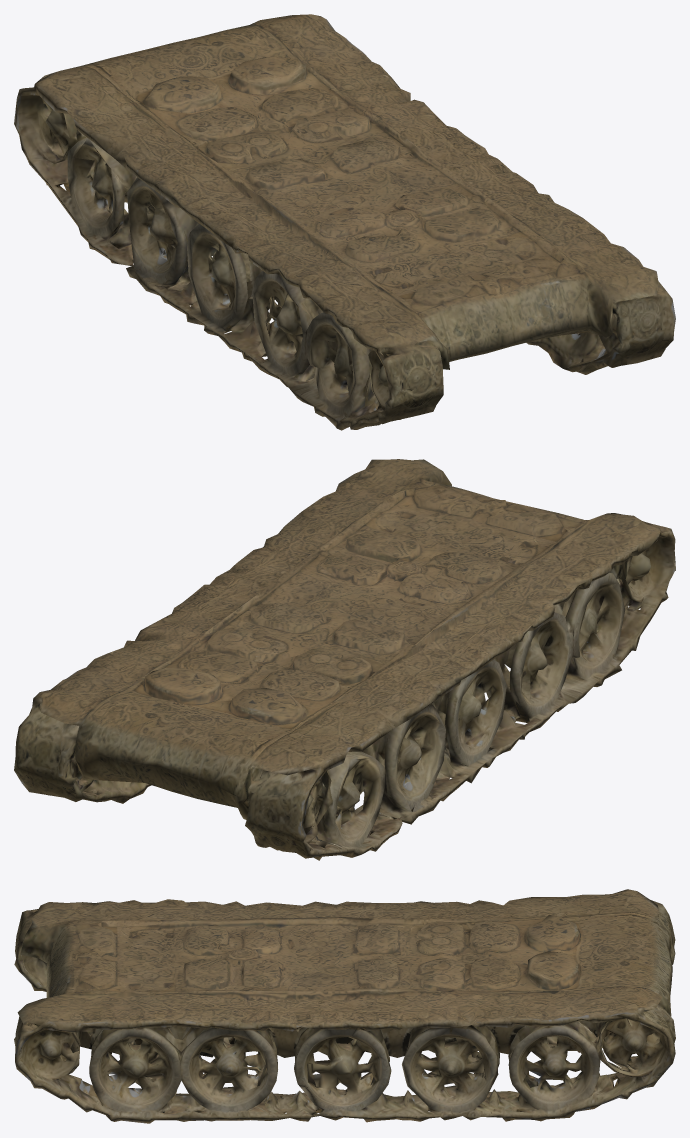
File: SM_VH_T34_85_TrackL_Varco.fbx
3 renders of one model, top to bottom at view 1: azimuth 30°, elevation 25°; view 2: azimuth 150°, elevation 25°; view 3: azimuth 270°, elevation 25°, orthographic. The views are drawn at different scales.
Parts seen in each view (by area): view 1: texture_mapping; view 2: texture_mapping; view 3: texture_mapping.
Boxes of the visible parts, bbox=[...] form: texture_mapping: bbox=[14, 14, 675, 430]; texture_mapping: bbox=[14, 459, 675, 860]; texture_mapping: bbox=[14, 889, 675, 1123].
Size of the model in its own units: 0.4413 by 1 by 0.1994.
1 material, 1 textured.
